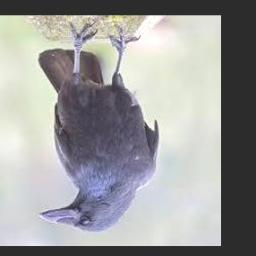Crow: (37, 21, 158, 233)
